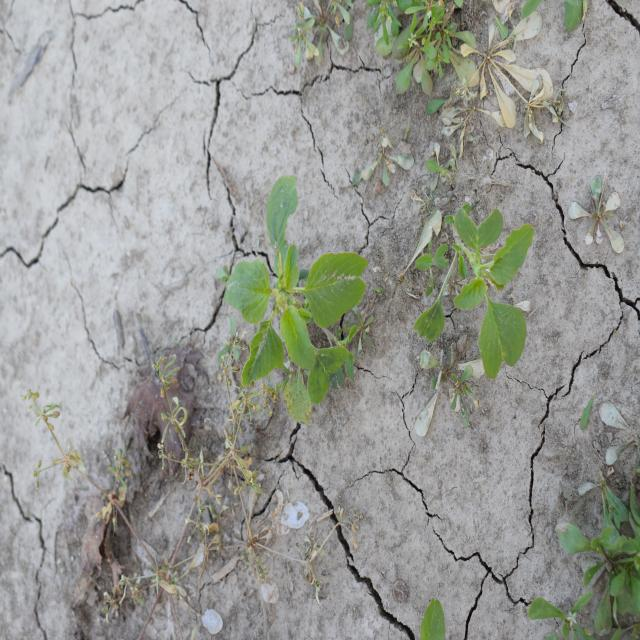Carpetweed: (18, 353, 364, 635), (282, 1, 569, 193), (526, 462, 639, 640), (567, 174, 626, 257), (596, 400, 638, 482)
PalmerAmaranth: (222, 171, 371, 426), (412, 202, 537, 383)
